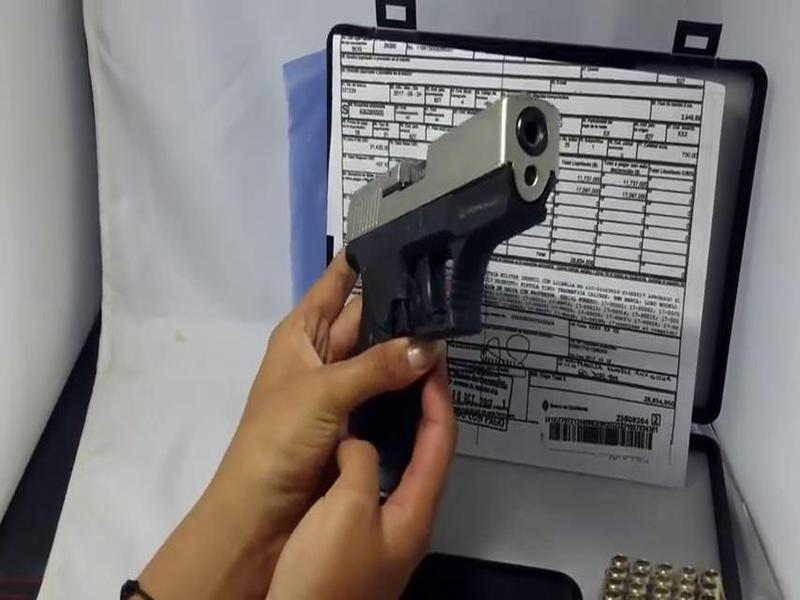Pistola: (331, 88, 594, 504)
